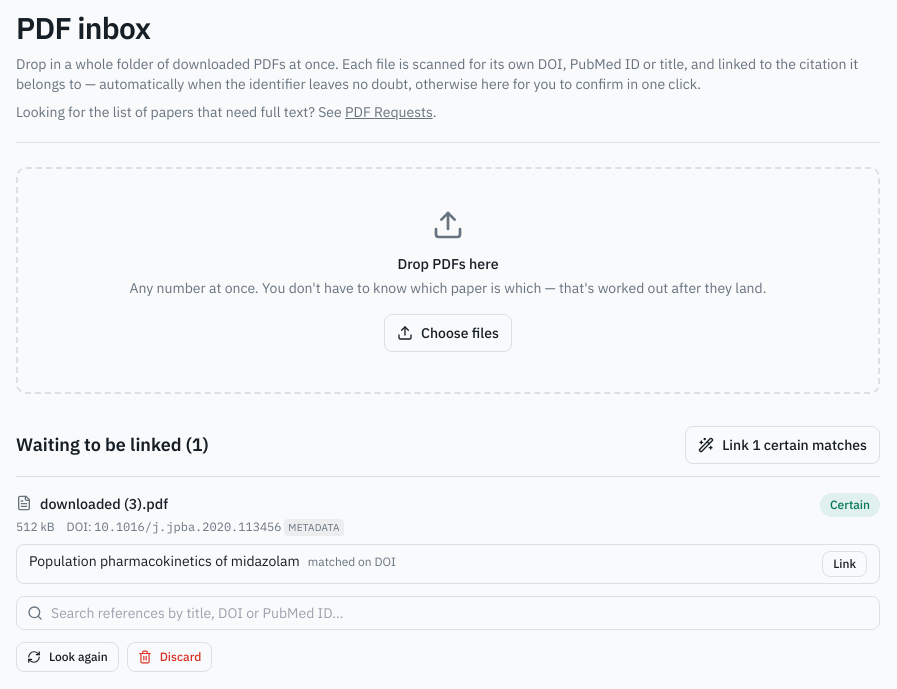
PdfInboxPage › links a candidate and drops the row from the queue
The width and height of the screenshot is (897, 689).
Click the button "Link" at (845, 564), box top-left (822, 551), bottom-right (867, 577)
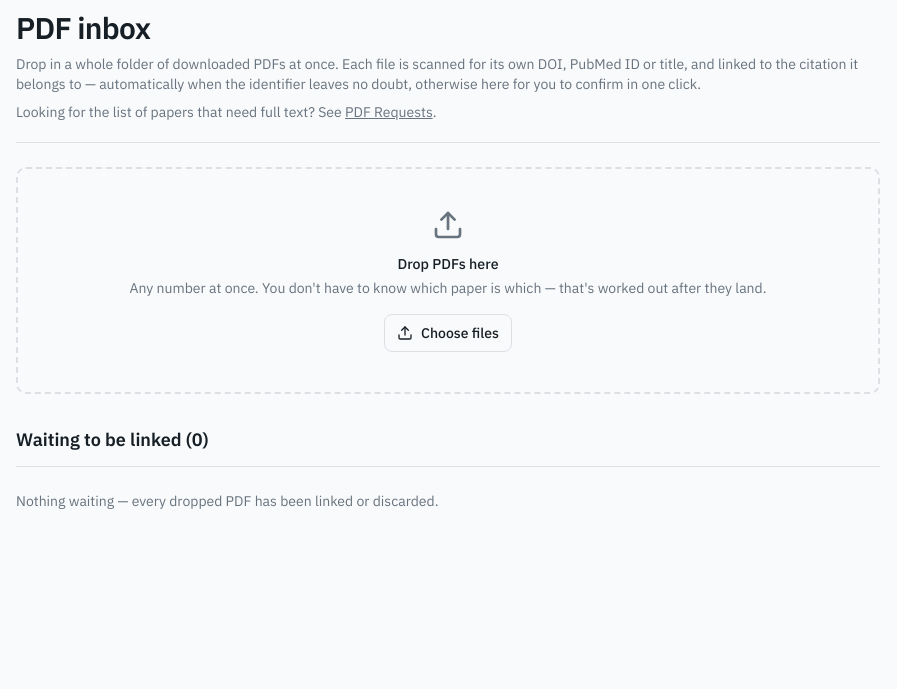
Expected: the text "downloaded (3).pdf" is gone
